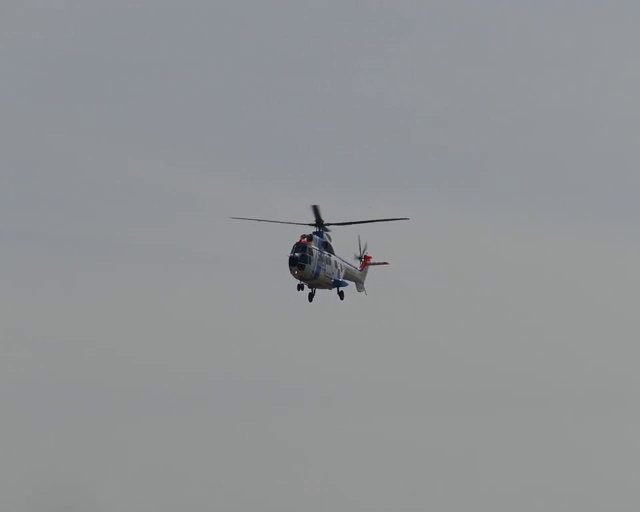HELICOPTER: (229, 203, 411, 303)
